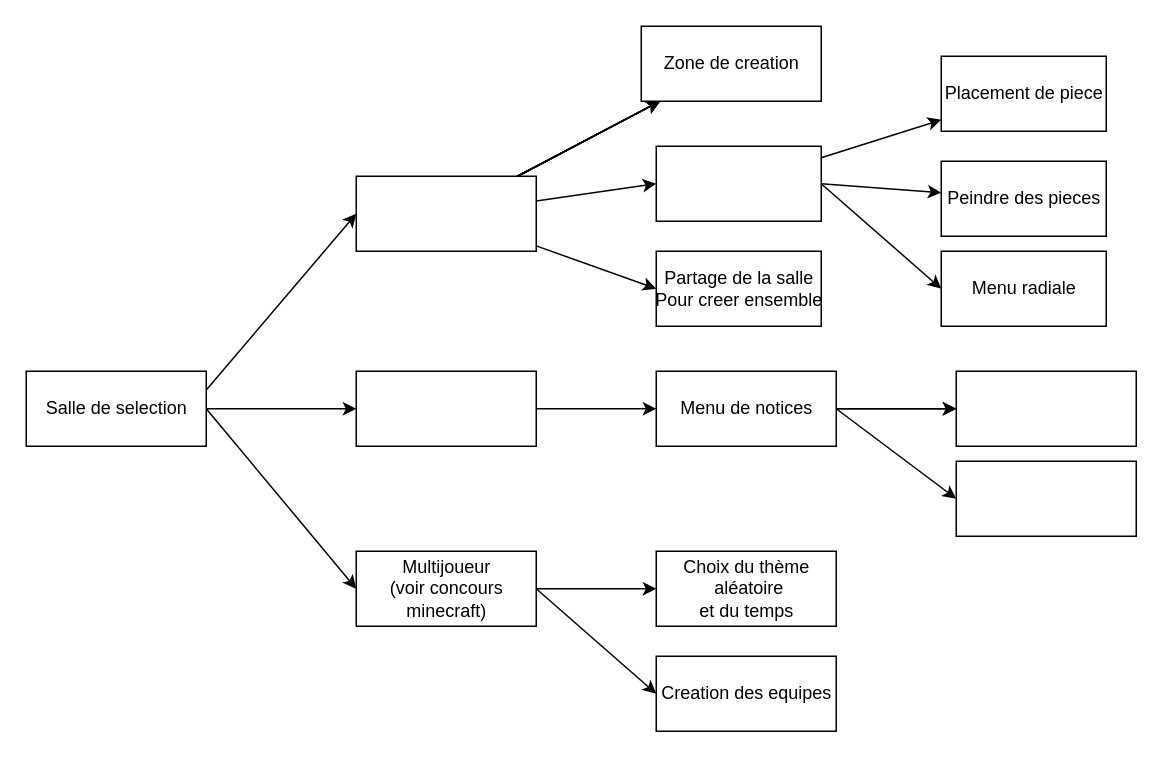
The diagram is 1163 pixels wide and 758 high, and some of its shapes have lost their labels. The centre of each missing label's shape, as x and y in pixels:
Chaque etape les pieces aparaisse: the point at 1045,498
Construction Guidée: the point at 445,408
Creation Libre: the point at 445,213
Ominitrix sur l'avant bras: the point at 738,183
Pdf interactif en 3D: the point at 1045,408
